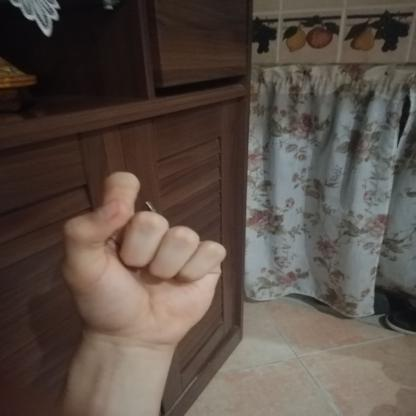FAA: (43, 161, 245, 358)
